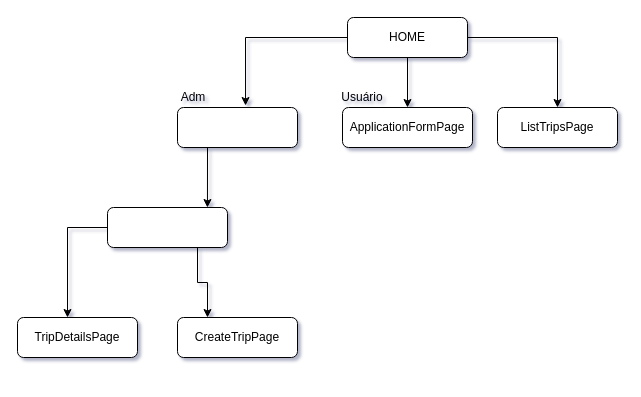
The diagram is 641 pixels wide and 397 high, and some of its shapes have lost their labels. The box of each missing label's shape, as (x1, y1, x2, y2) in pixels:
AdmPanelPage: (106, 206, 228, 248)
LoginPage: (176, 106, 298, 148)
